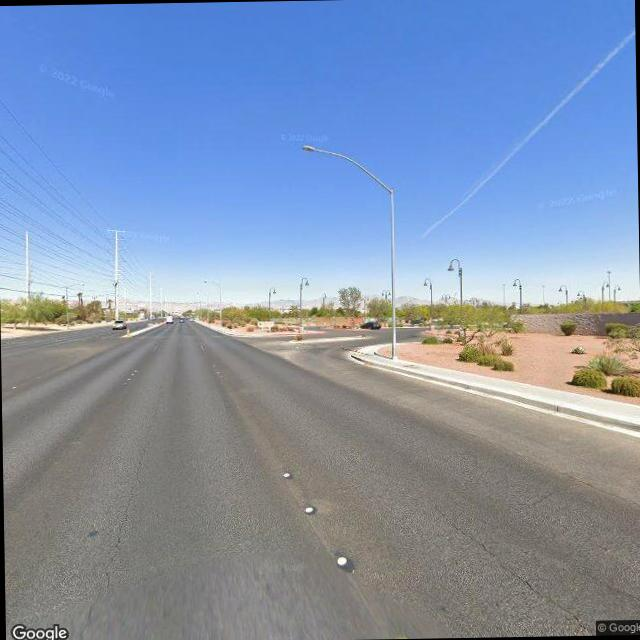pothole: (430, 508, 586, 634), (81, 437, 148, 636)
